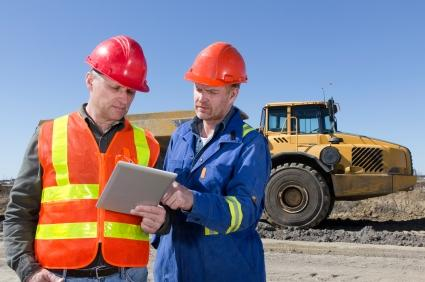helmet: (84, 34, 153, 93), (185, 41, 252, 88)
wear: (33, 123, 150, 266), (159, 124, 265, 280)
